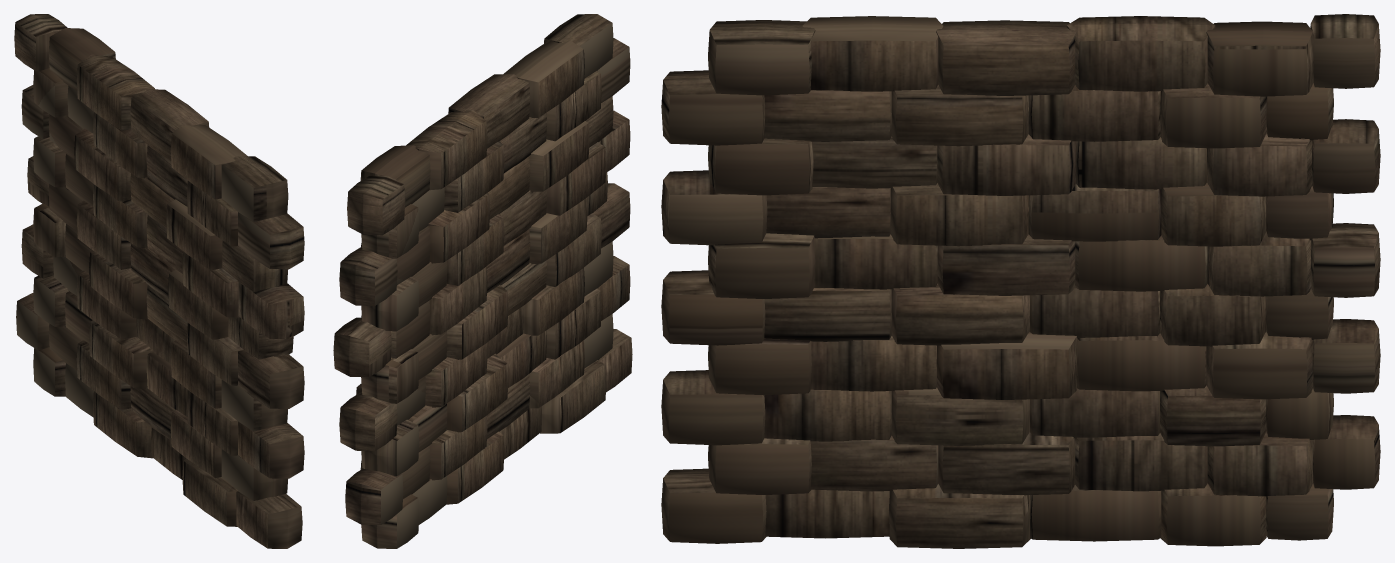
Rendered from ParedTill.fbx.
The picture shows the model from 3 angles, left to right: view 1: azimuth 30°, elevation 25°; view 2: azimuth 150°, elevation 25°; view 3: azimuth 270°, elevation 25°; orthographic projection. The views are drawn at different scales.
Parts seen in each view (by area): view 1: Pared_Piedra001; view 2: Pared_Piedra001; view 3: Pared_Piedra001.
Boxes of the visible parts, <box> form: Pared_Piedra001: <box>14,14,304,548</box>; Pared_Piedra001: <box>333,14,632,548</box>; Pared_Piedra001: <box>661,14,1380,548</box>.
Bounding box in the file's own units: 71.41 × 444 × 567.
